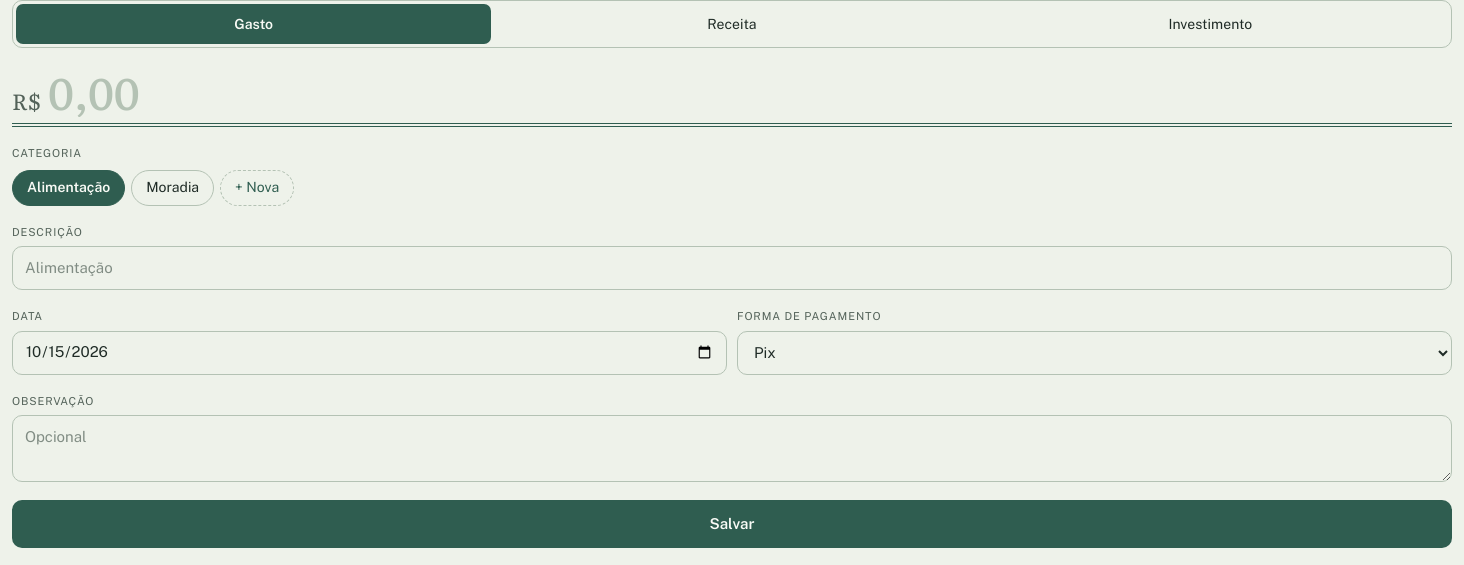
Test case: TransactionForm › limpa o formulário depois de enviar
Click the radio button labelled "Receita". click: click(732, 24)
box: 494,4 -> 970,44
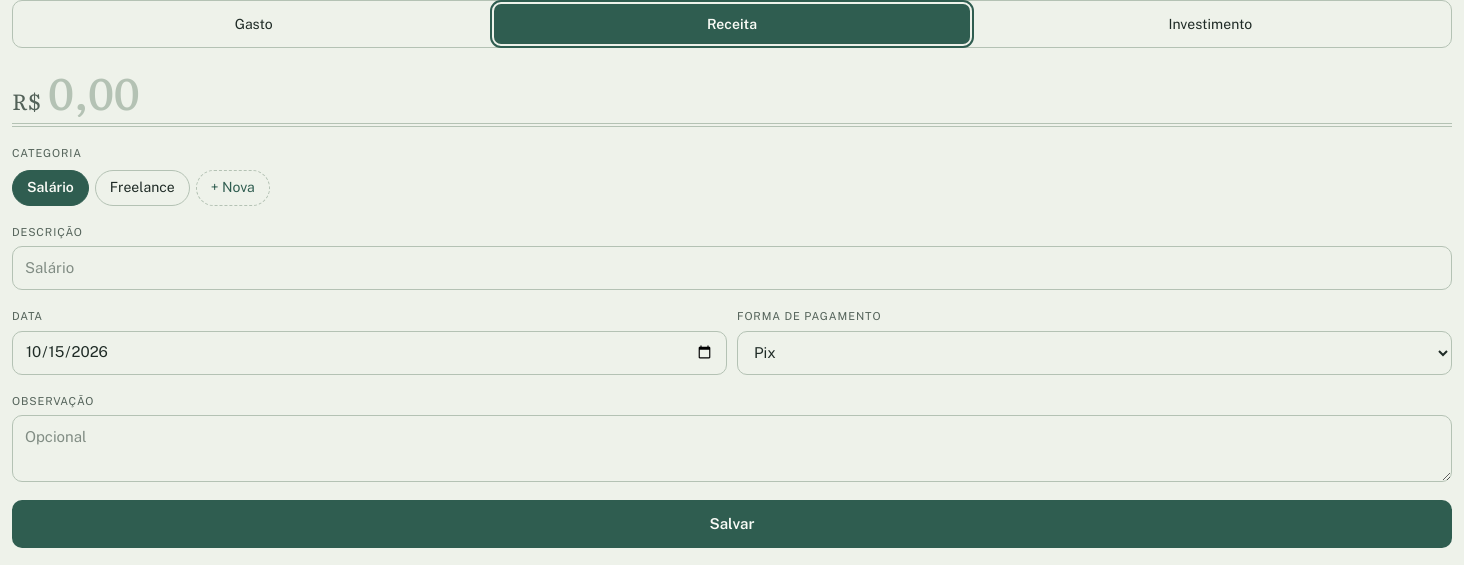
Type "Bônus" into the field labelled "Descrição". click: (732, 268)
box: 12,246 -> 1452,290
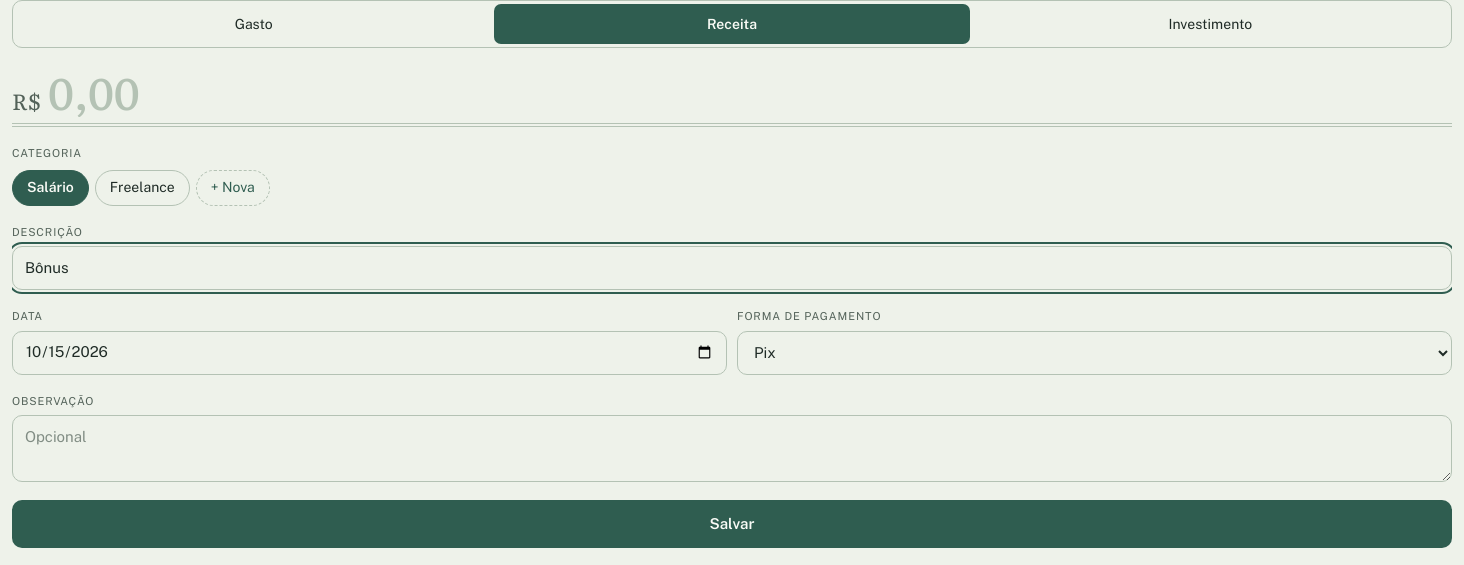
Type "300" into the field named "Valor". click: (750, 91)
box: 48,66 -> 1452,117
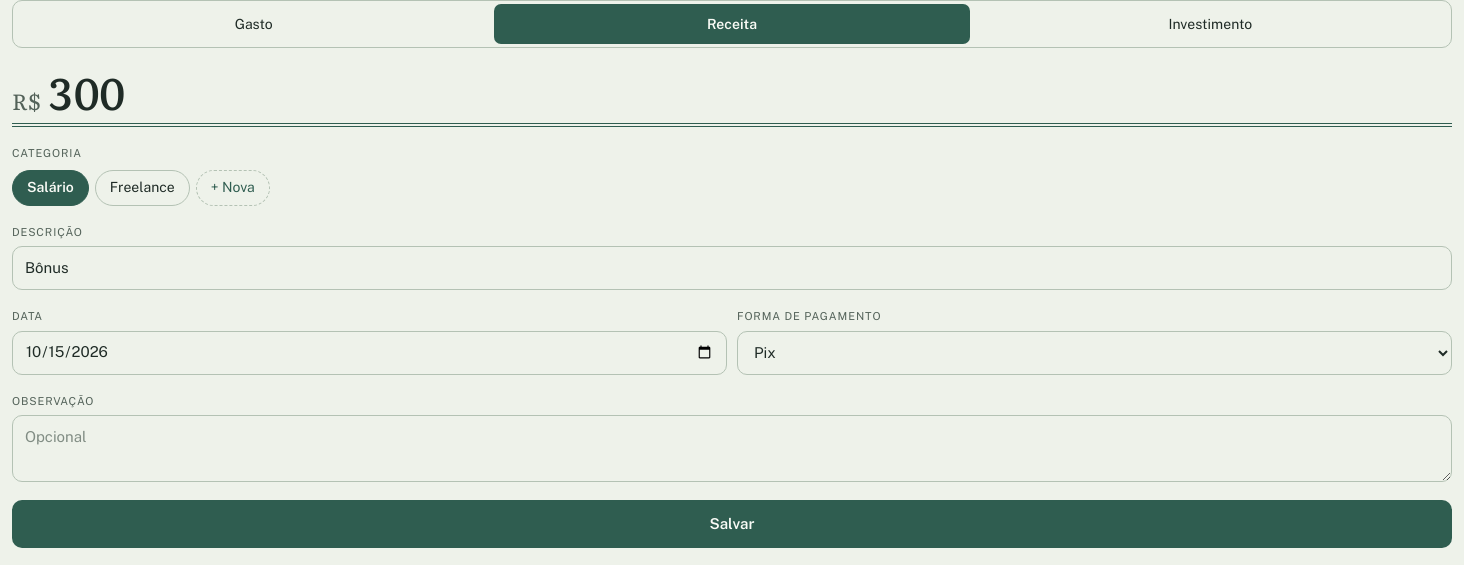
Click the button "Salvar". click: click(732, 524)
box: 12,500 -> 1452,548
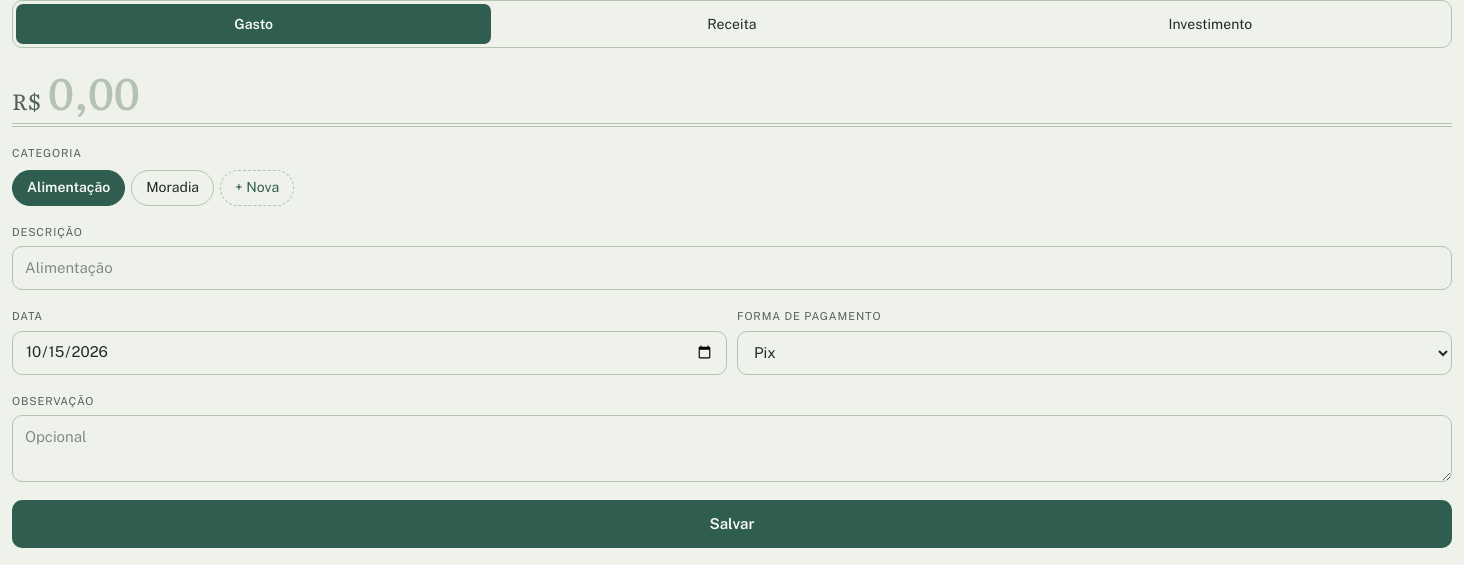
Expected: the field labelled "Descrição" is empty, 12,246 -> 1452,290
Expected: the field named "Valor" is empty, 48,66 -> 1452,117
Expected: the radio button labelled "Alimentação" is shown, 12,170 -> 125,206
